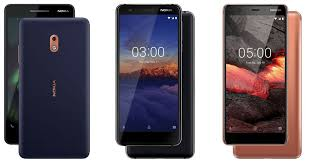nokia: (15, 16, 95, 159), (216, 3, 290, 149), (112, 1, 186, 146)
